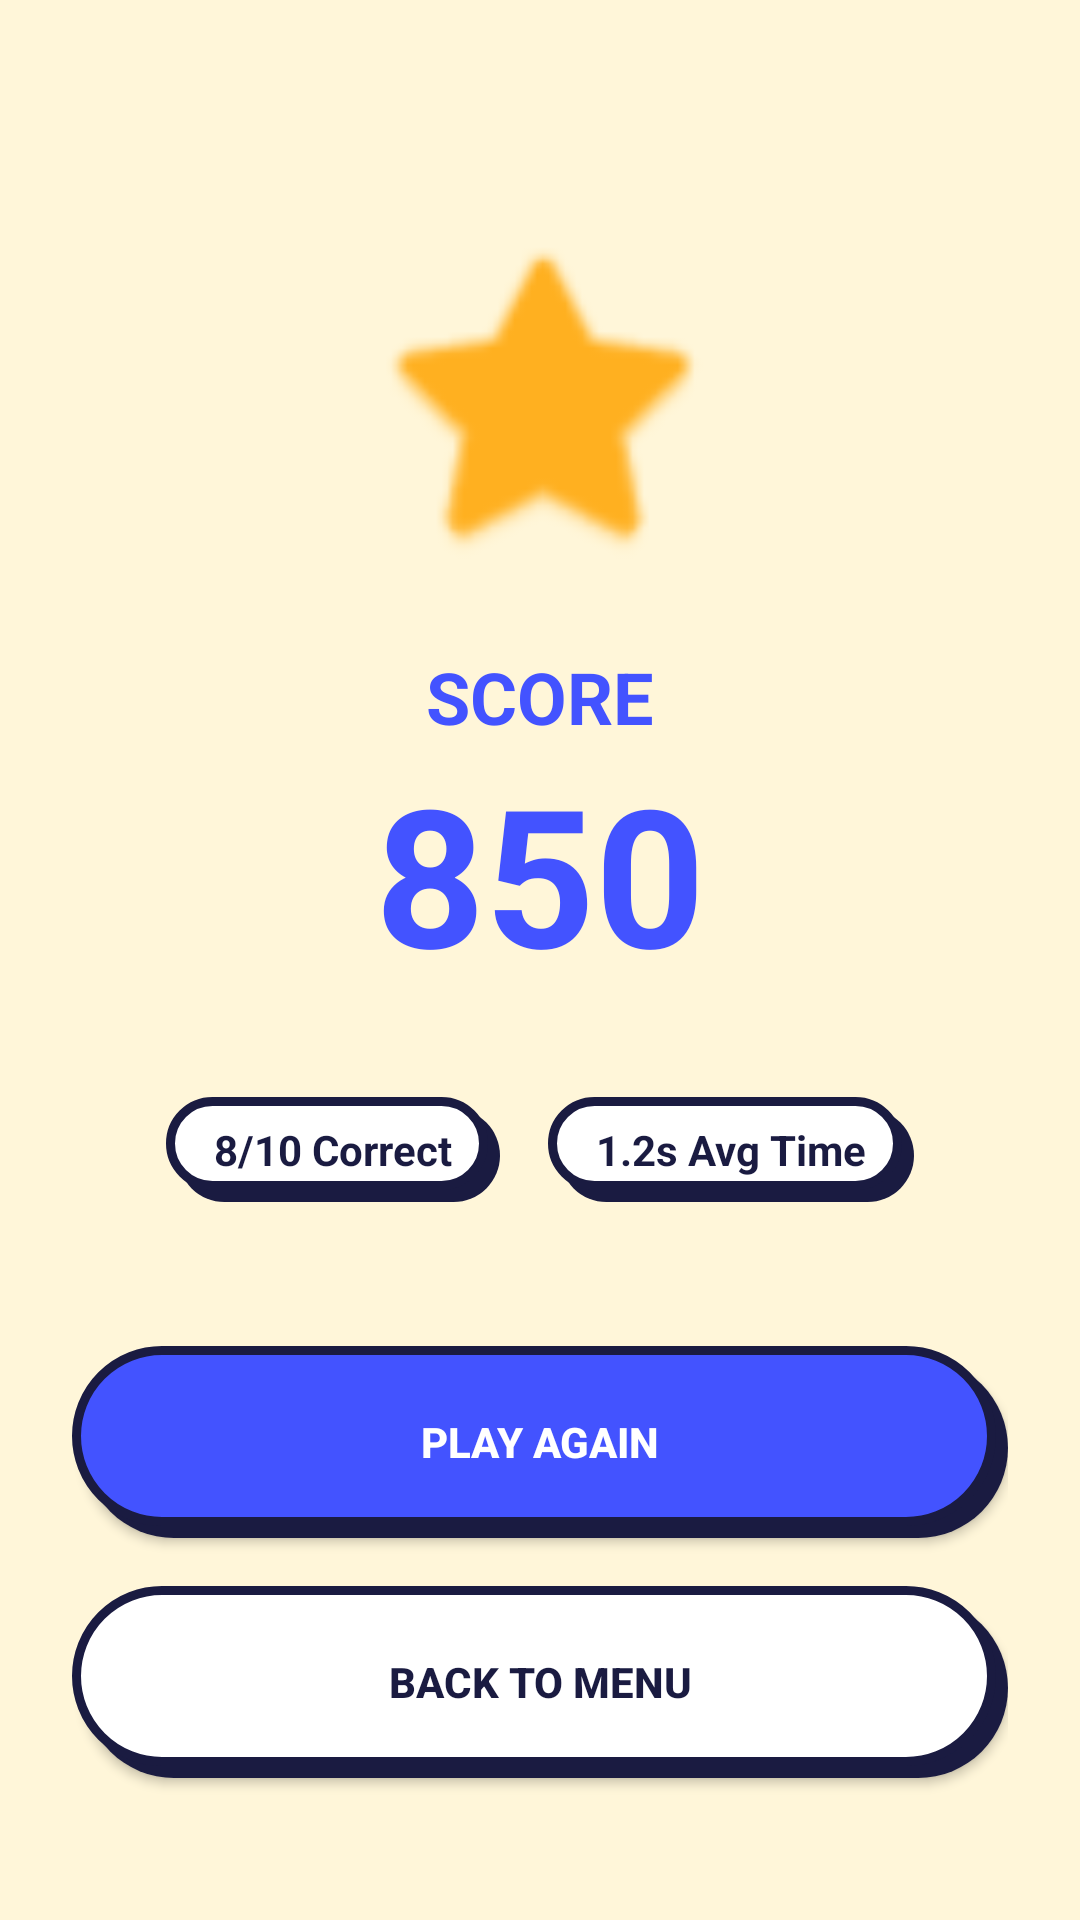

Icon click points for this 1080x1920 phone screenshot, format [x,y]:
star on: [543,398]
